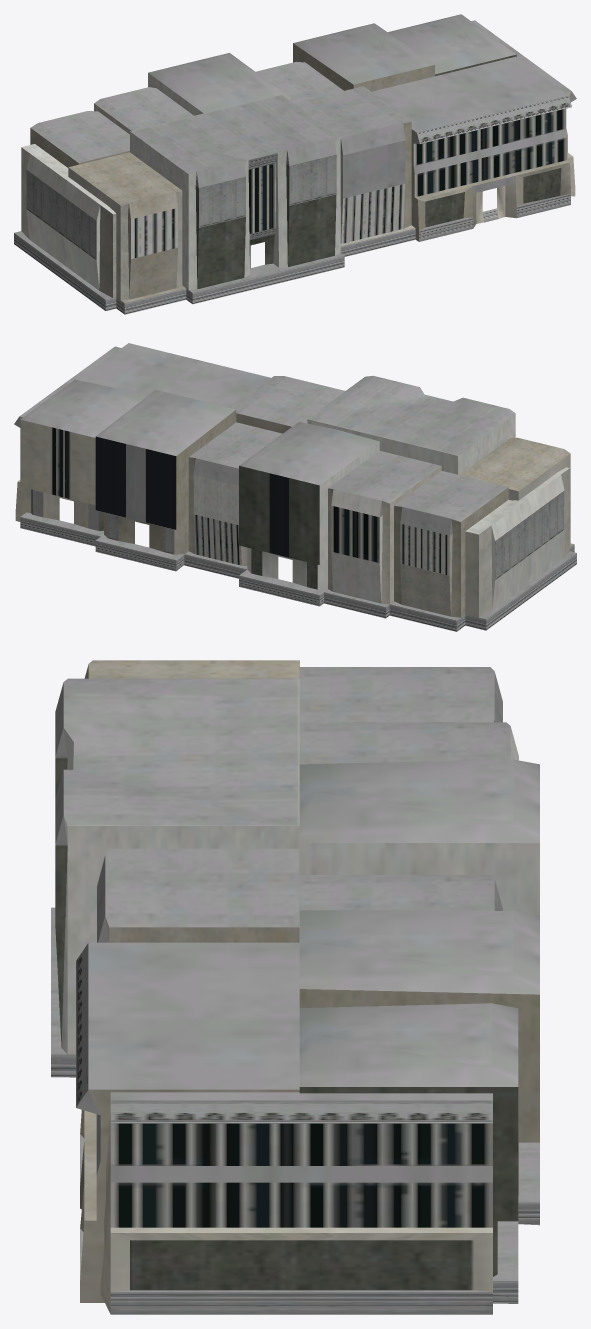
Rendered from thm_corl_imprv_building_block_64x32_s02_r0_exterior_mesh_r0_l3.fbx.
3 views of the same model, one above another, from view 1: azimuth 30°, elevation 25°; view 2: azimuth 150°, elevation 25°; view 3: azimuth 270°, elevation 25° (orthographic). The views are drawn at different scales.
Visible parts, largest first — view 1: mesh_node; view 2: mesh_node; view 3: mesh_node.
Part boxes in pixels (x1=…): mesh_node: x1=14, y1=14, x2=576, y2=314; mesh_node: x1=14, y1=343, x2=576, y2=631; mesh_node: x1=51, y1=660, x2=539, y2=1314.
Size of the model in its own units: 65.11 by 17.14 by 29.5.
